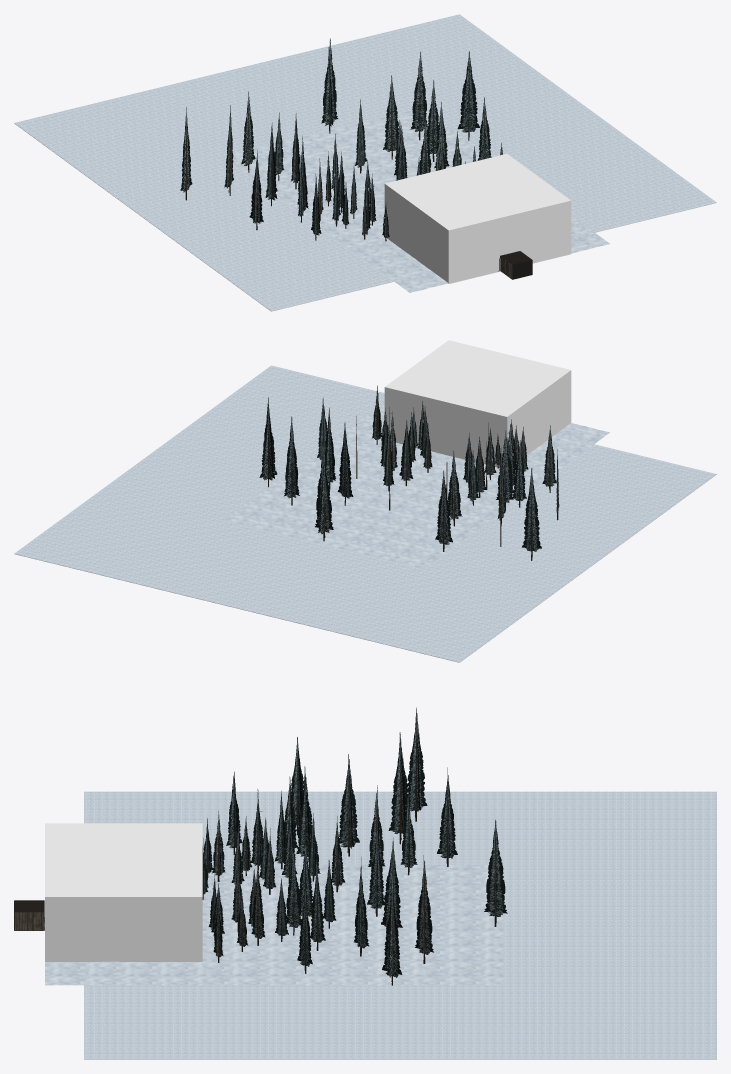
3 views of the same model, one above another, from view 1: azimuth 30°, elevation 25°; view 2: azimuth 150°, elevation 25°; view 3: azimuth 270°, elevation 25° (orthographic). The views are drawn at different scales.
Visible parts, largest first — view 1: SM_SnowFarApron, SM_HazeVolume, SM_SnowTerrain, SM_Conifer_41_Card_0, SM_Conifer_33_Card_0, SM_Conifer_39_Card_0, SM_Conifer_31_Card_0, SM_Conifer_23_Card_0, SM_Conifer_30_Card_0, SM_Conifer_40_Card_0, SM_Conifer_38_Card_0; view 2: SM_SnowFarApron, SM_SnowTerrain, SM_HazeVolume, SM_Conifer_40_Card_0, SM_Conifer_39_Card_0, SM_Conifer_23_Card_0, SM_Conifer_31_Card_0, SM_Conifer_18_Card_0; view 3: SM_SnowFarApron, SM_SnowTerrain, SM_HazeVolume, SM_Conifer_39_Card_1, SM_Conifer_40_Card_1, SM_Conifer_20_Card_1, SM_Conifer_33_Card_1, SM_Conifer_23_Card_1, SM_Conifer_22_Card_1, SM_Conifer_31_Card_1, SM_Conifer_32_Card_1, SM_Conifer_27_Card_1 (+6 smaller).
Part boxes in pixels (x1=…): SM_SnowFarApron: x1=14, y1=14, x2=716, y2=311; SM_HazeVolume: x1=384, y1=154, x2=571, y2=283; SM_SnowTerrain: x1=223, y1=110, x2=609, y2=292; SM_Conifer_41_Card_0: x1=457, y1=51, x2=479, y2=136; SM_Conifer_33_Card_0: x1=410, y1=51, x2=427, y2=136; SM_Conifer_39_Card_0: x1=321, y1=38, x2=338, y2=130; SM_Conifer_31_Card_0: x1=383, y1=75, x2=398, y2=156; SM_Conifer_23_Card_0: x1=241, y1=91, x2=255, y2=169; SM_Conifer_30_Card_0: x1=427, y1=80, x2=438, y2=158; SM_Conifer_40_Card_0: x1=180, y1=107, x2=192, y2=196; SM_Conifer_38_Card_0: x1=477, y1=97, x2=491, y2=160; SM_SnowFarApron: x1=14, y1=365, x2=716, y2=662; SM_SnowTerrain: x1=224, y1=402, x2=609, y2=568; SM_HazeVolume: x1=384, y1=340, x2=571, y2=467; SM_Conifer_40_Card_0: x1=522, y1=468, x2=541, y2=556; SM_Conifer_39_Card_0: x1=315, y1=446, x2=333, y2=537; SM_Conifer_23_Card_0: x1=435, y1=470, x2=452, y2=548; SM_Conifer_31_Card_0: x1=337, y1=422, x2=353, y2=502; SM_Conifer_18_Card_0: x1=496, y1=430, x2=513, y2=506; SM_SnowFarApron: x1=84, y1=791, x2=716, y2=1059; SM_SnowTerrain: x1=45, y1=864, x2=503, y2=985; SM_HazeVolume: x1=45, y1=823, x2=202, y2=961; SM_Conifer_39_Card_1: x1=484, y1=820, x2=507, y2=922; SM_Conifer_40_Card_1: x1=407, y1=713, x2=427, y2=817; SM_Conifer_20_Card_1: x1=339, y1=759, x2=359, y2=852; SM_Conifer_33_Card_1: x1=415, y1=860, x2=433, y2=954; SM_Conifer_23_Card_1: x1=437, y1=775, x2=457, y2=863; SM_Conifer_22_Card_1: x1=388, y1=738, x2=409, y2=839; SM_Conifer_31_Card_1: x1=381, y1=841, x2=402, y2=928; SM_Conifer_32_Card_1: x1=367, y1=831, x2=384, y2=908; SM_Conifer_27_Card_1: x1=286, y1=853, x2=301, y2=931.
Bounding box in the file's own units: 80 × 17.29 × 88.85.
50 materials, 40 textured.
